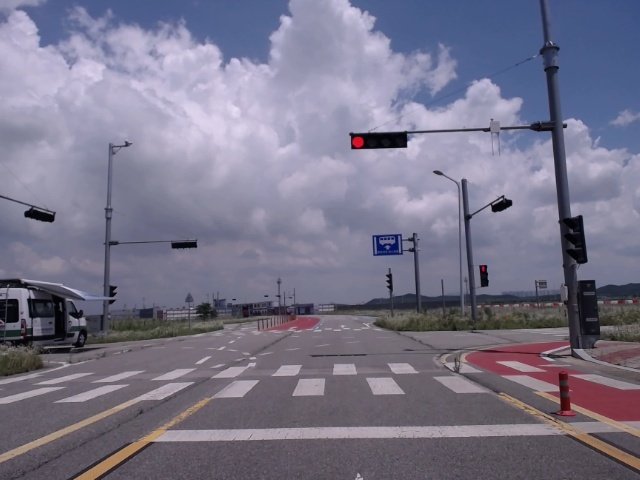red_4: (350, 132, 408, 149)
